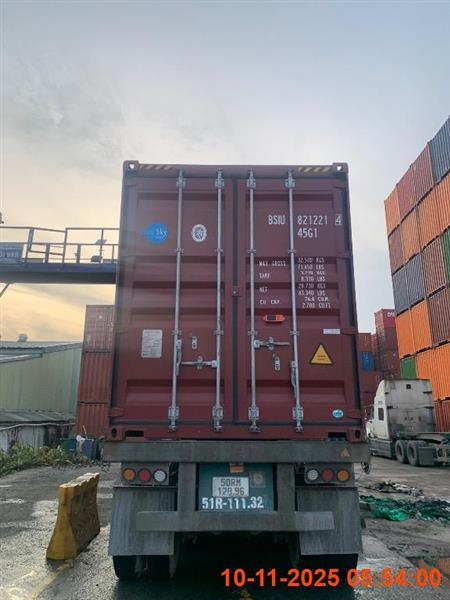crack: (78, 161, 371, 583), (365, 378, 449, 467)
